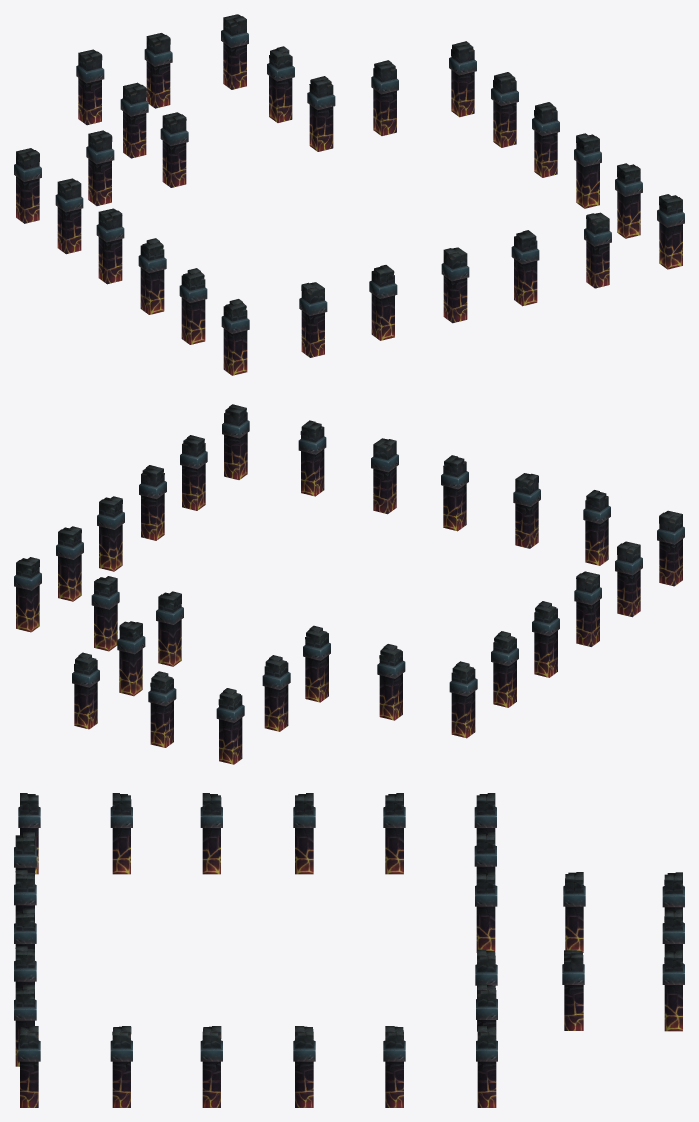
File: chnagjing_sjb_01.FBX
The picture shows the model from 3 angles, top to bottom: view 1: azimuth 30°, elevation 25°; view 2: azimuth 150°, elevation 25°; view 3: azimuth 270°, elevation 25°; orthographic projection. The views are drawn at different scales.
Visible parts, largest first — view 1: chnagjing_sjb_01; view 2: chnagjing_sjb_01; view 3: chnagjing_sjb_01.
Part boxes in pixels (x1,y1,x2,y2): chnagjing_sjb_01: (14,14,684,375); chnagjing_sjb_01: (14,404,684,764); chnagjing_sjb_01: (14,793,684,1107).
Bounding box in the file's own units: 2203 × 2568 × 315.
